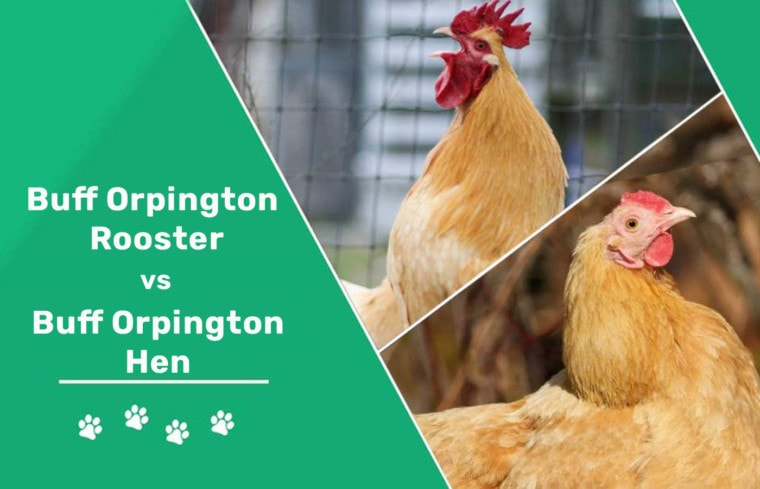buff: (573, 186, 718, 489), (401, 5, 569, 209)
